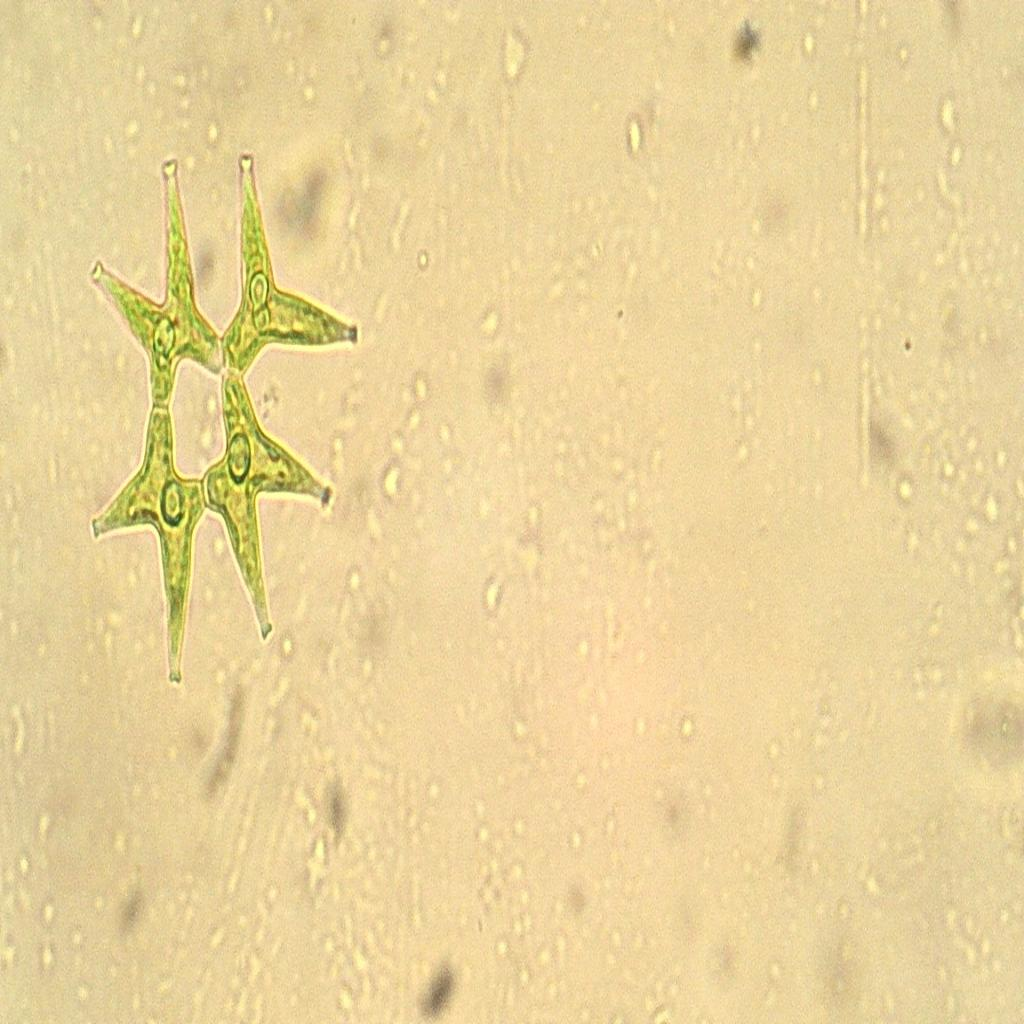Pediastrum_CT: (72, 140, 370, 714)
